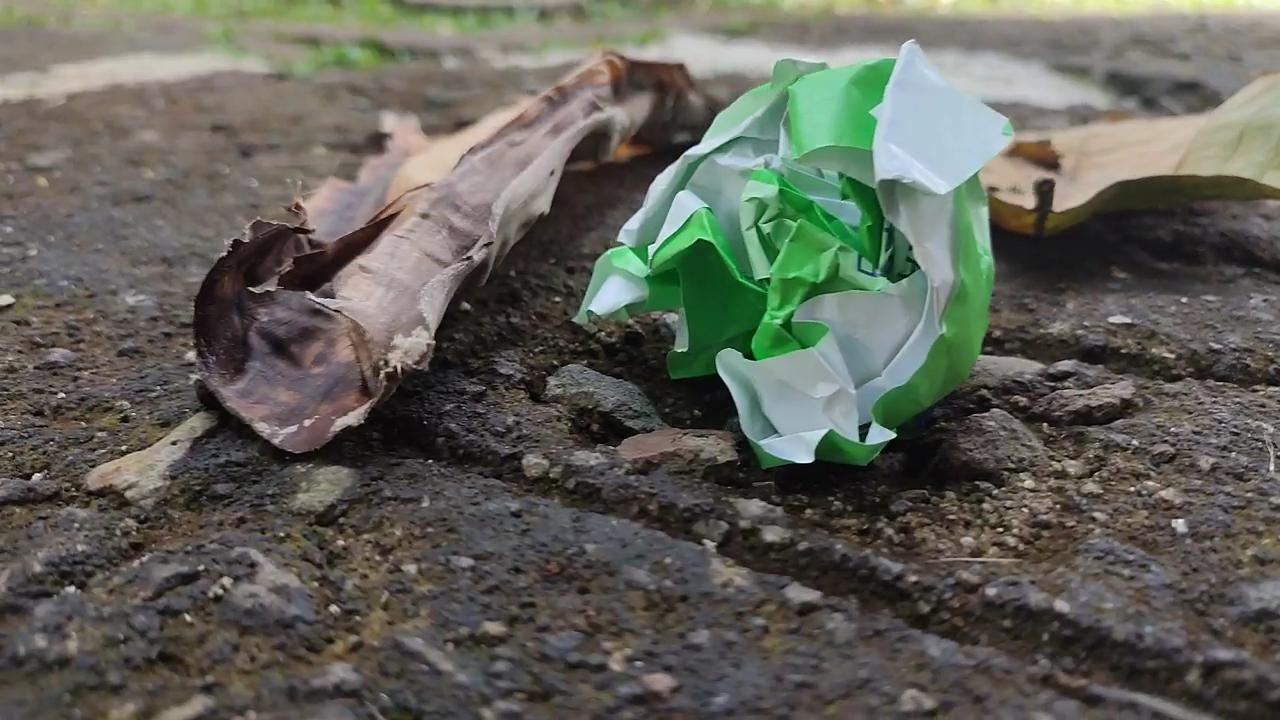Paper: (571, 24, 1021, 482)
